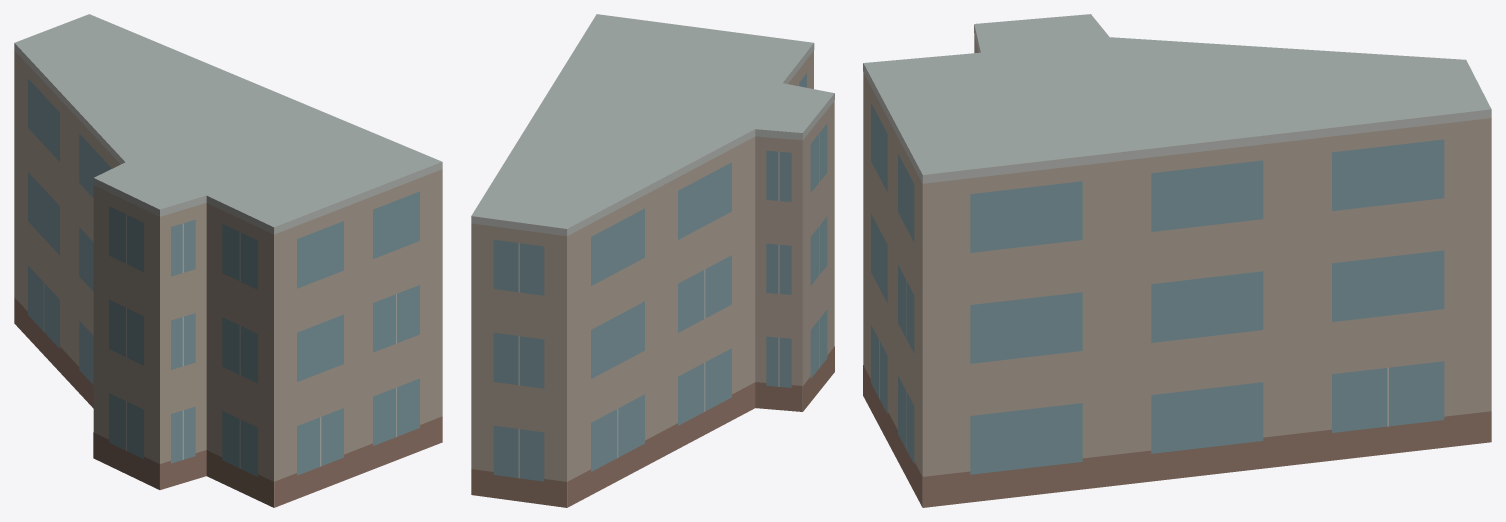
File: survey-upis-32618149.glb
3 renders of one model, left to right at view 1: azimuth 30°, elevation 25°; view 2: azimuth 150°, elevation 25°; view 3: azimuth 270°, elevation 25°, orthographic. The views are drawn at different scales.
Parts seen in each view (by area): view 1: survey-upis-32618149.tmp; view 2: survey-upis-32618149.tmp; view 3: survey-upis-32618149.tmp.
Boxes of the visible parts, <box> form: survey-upis-32618149.tmp: <box>14,14,442,507</box>; survey-upis-32618149.tmp: <box>471,14,834,507</box>; survey-upis-32618149.tmp: <box>863,14,1491,507</box>.
Bounding box in the file's own units: 9.77 × 9.4 × 16.1.
